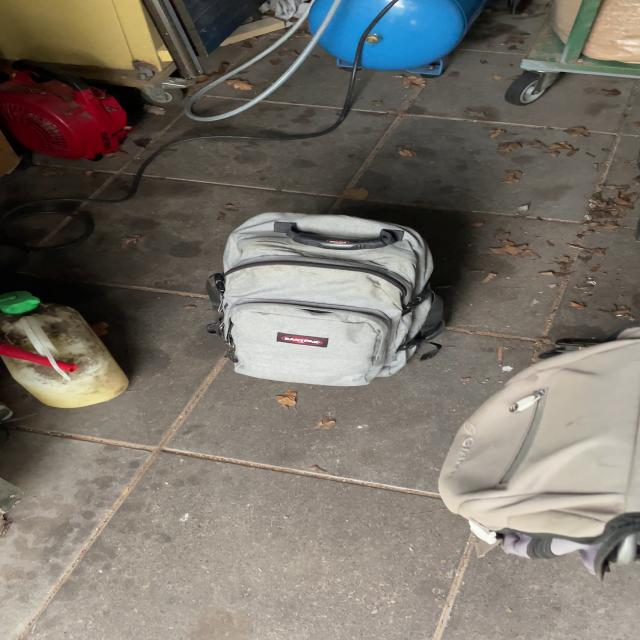backpack: (198, 206, 461, 392)
